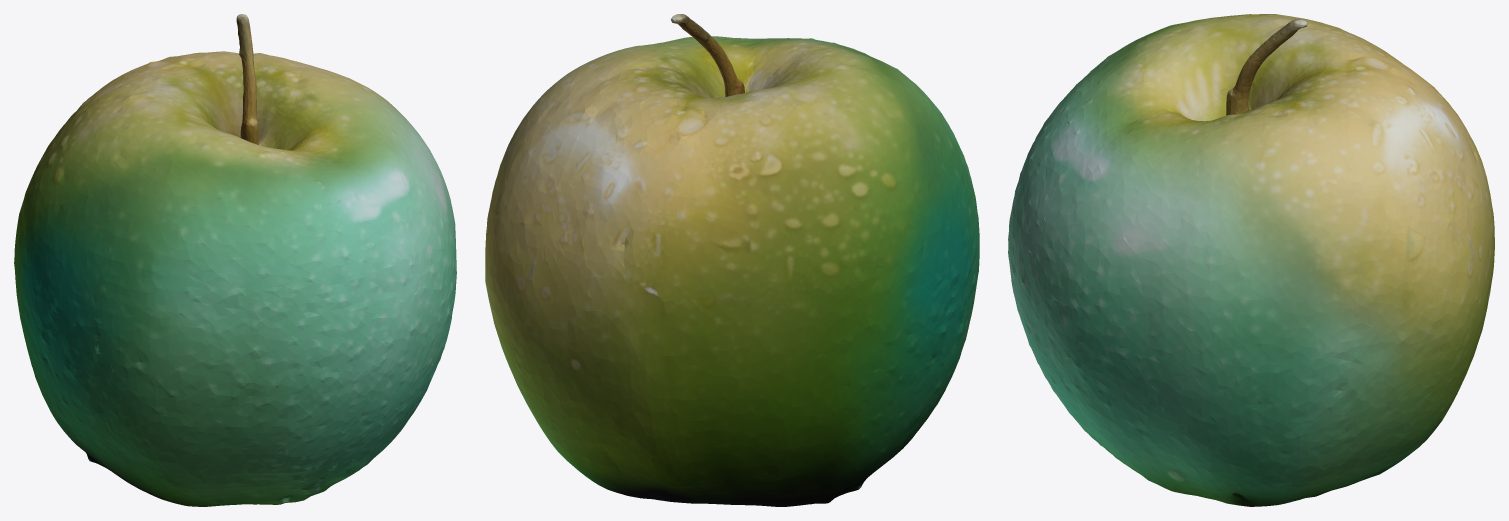
3 renders of one model, left to right at view 1: azimuth 30°, elevation 25°; view 2: azimuth 150°, elevation 25°; view 3: azimuth 270°, elevation 25°, orthographic. The views are drawn at different scales.
Visible parts, largest first — view 1: world; view 2: world; view 3: world.
Part boxes in pixels (bbox=[...]): world: bbox=[14, 14, 456, 506]; world: bbox=[485, 14, 979, 506]; world: bbox=[1008, 14, 1494, 506].
Bounding box in the file's own units: 0.9448 × 0.9988 × 0.9584.
Materials: 1 (1 with a texture image).
